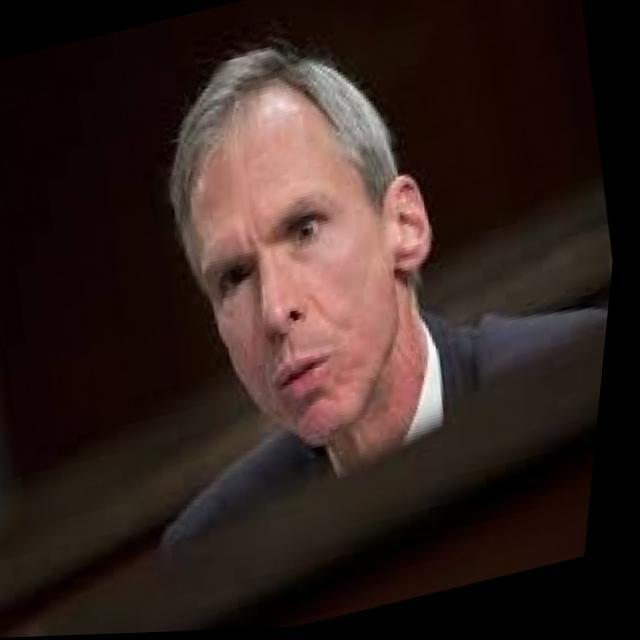Nonhelmet: (161, 39, 440, 450)
